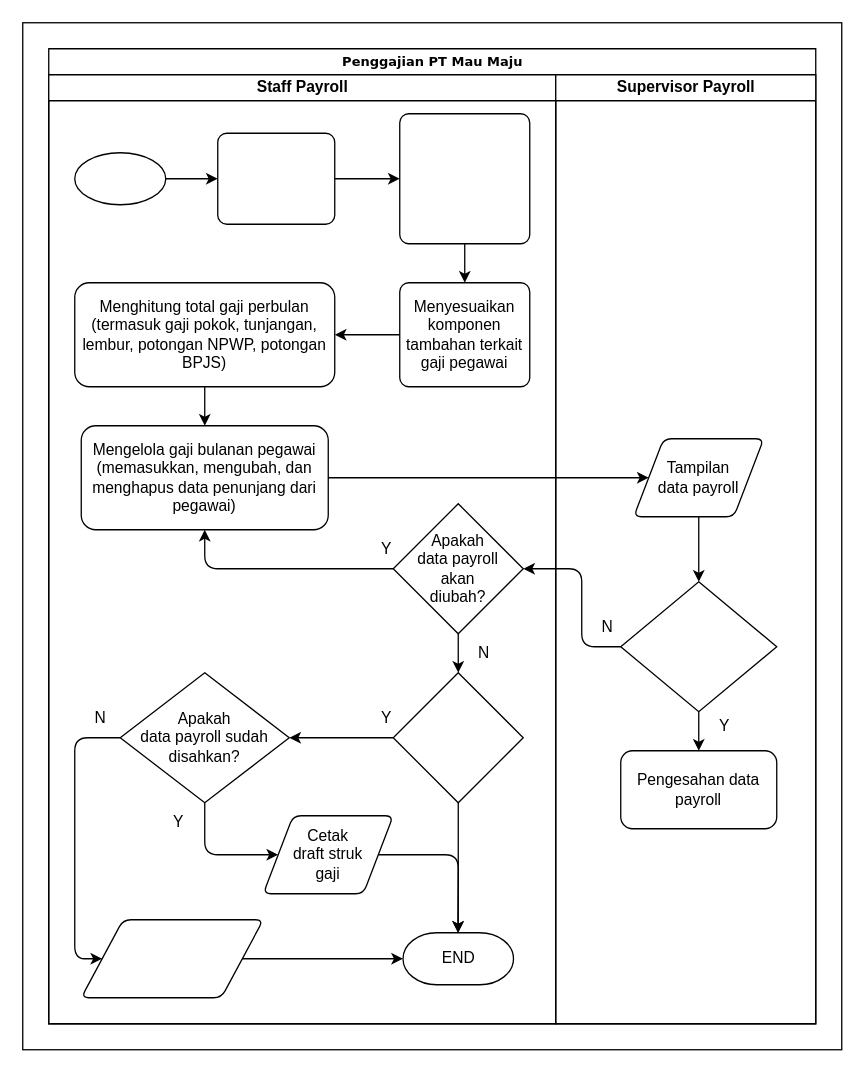
Some shapes in this 864 by 1073 pixel diagram are drawn without their labels. Here are the shapes that lost their labels. From the top down, the centre of each, then its label:
At point (119, 178): "START".
At point (275, 178): "Merekap data presensi pegawai".
At point (464, 178): "Menyesuaikan periode gaji bulanan mulai tanggal 1 hingga akhir bulan".
At point (698, 646): "Apakah data payroll akan disahkan?".
At point (457, 737): "Apakah data payroll akan dicetak?".
At point (171, 958): "Cetak struk gaji yang sudah disahkan".
